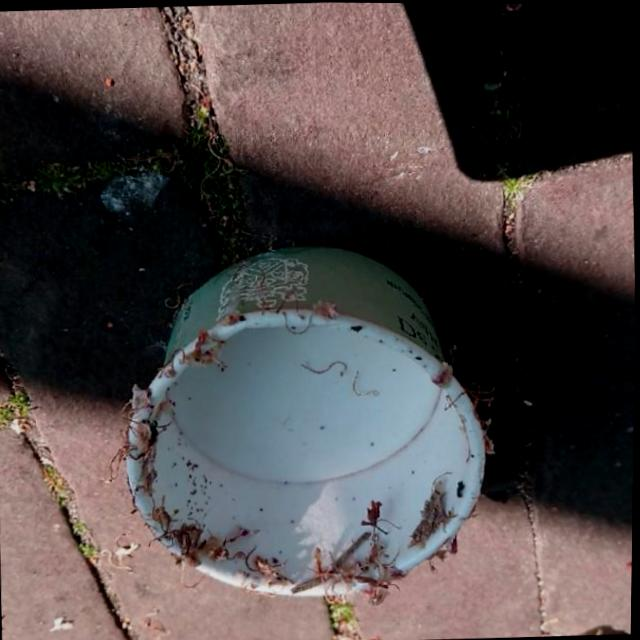Paper: (112, 230, 500, 613)
